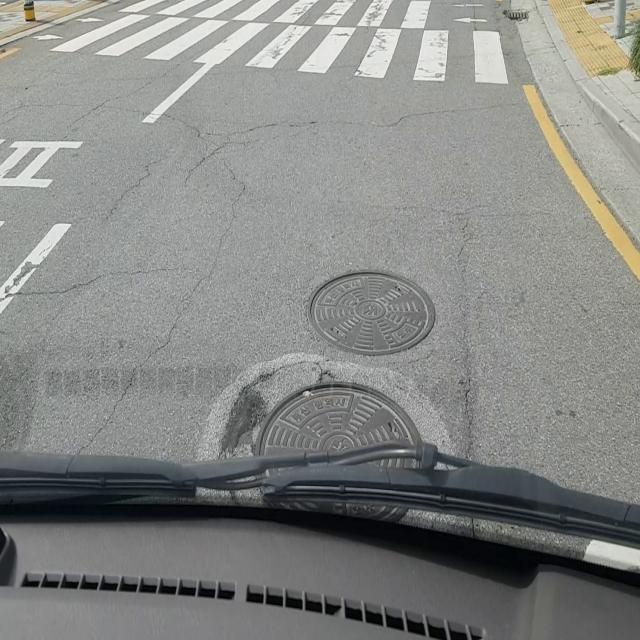Pothole: (215, 374, 421, 451)
